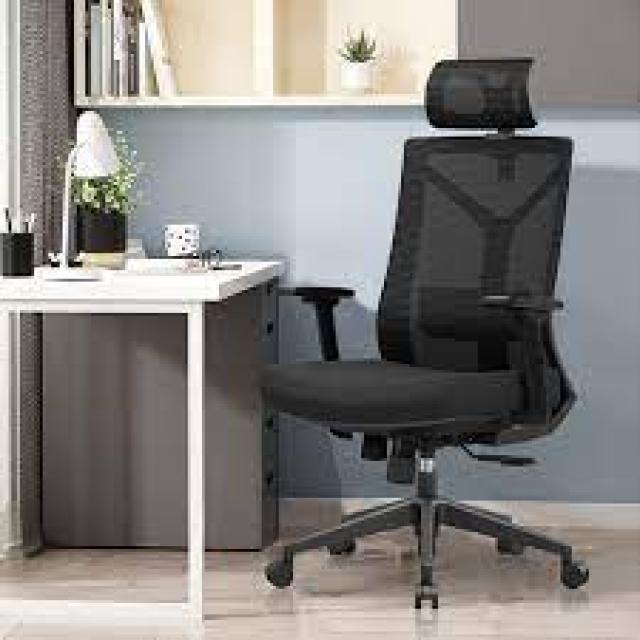chair: (171, 20, 622, 640)
